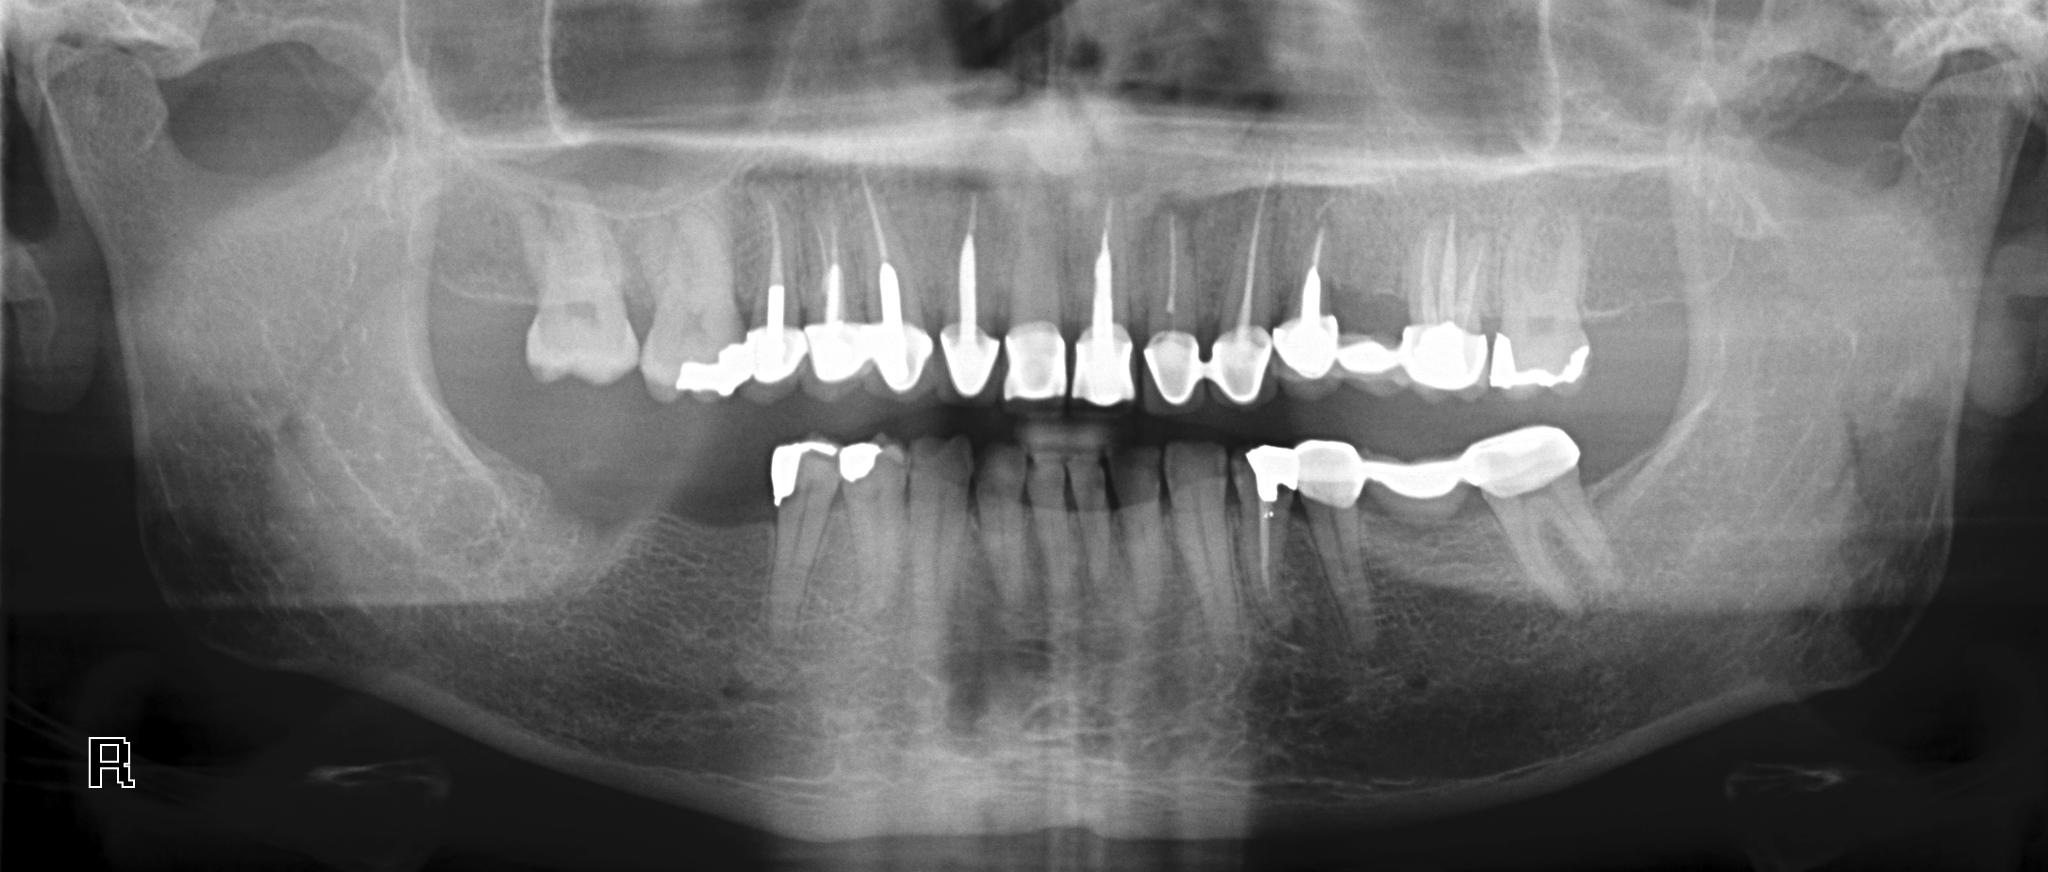Fillings: (1465, 424, 1612, 617), (632, 202, 751, 402), (1485, 209, 1593, 394), (758, 436, 841, 641), (1293, 437, 1375, 644), (1003, 192, 1070, 411), (1211, 191, 1275, 405), (1339, 218, 1404, 384)
Implant: (1396, 208, 1490, 398), (1068, 193, 1140, 414), (1271, 189, 1345, 401), (1138, 195, 1207, 416), (1226, 436, 1301, 641), (935, 188, 1003, 403), (801, 191, 872, 392)
